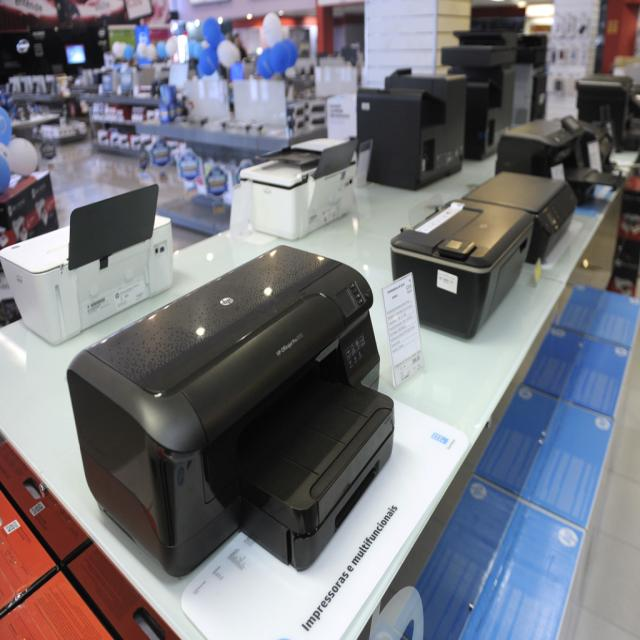printer: (54, 236, 421, 584), (6, 210, 182, 344), (216, 103, 384, 242), (398, 197, 589, 304)
